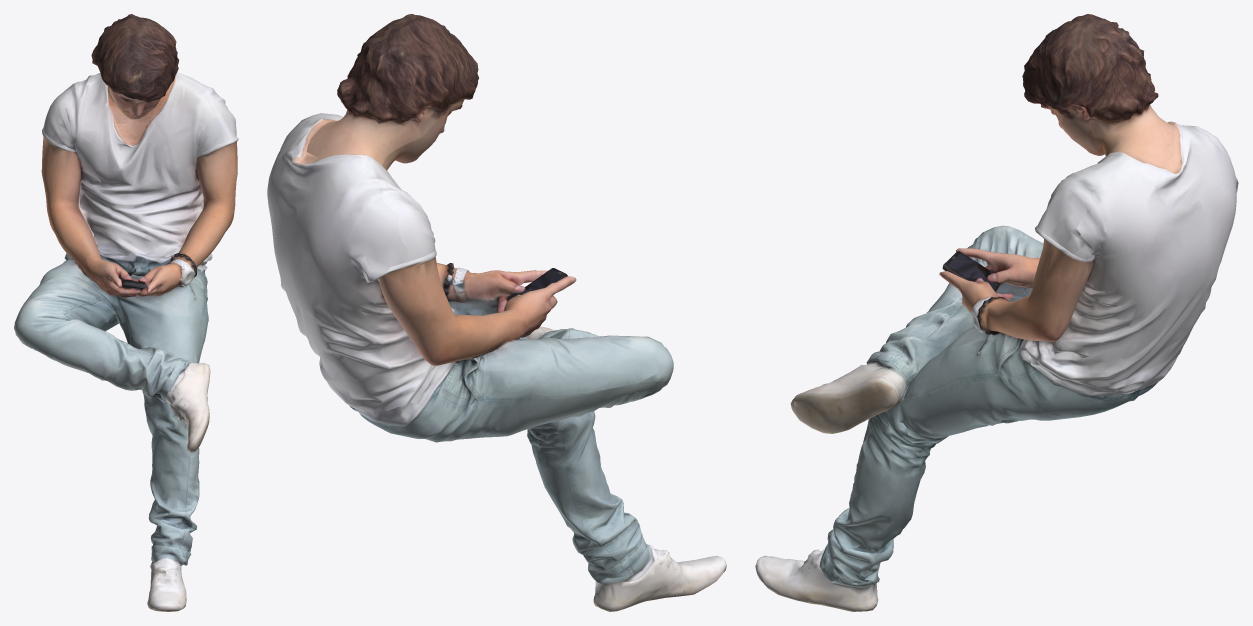
File: 3DMAN.dae
The picture shows the model from 3 angles, left to right: view 1: azimuth 30°, elevation 25°; view 2: azimuth 150°, elevation 25°; view 3: azimuth 270°, elevation 25°; orthographic projection. The views are drawn at different scales.
Visible parts, largest first — view 1: _3DGeom_1_Defintion (×10); view 2: _3DGeom_1_Defintion (×9); view 3: _3DGeom_1_Defintion (×9).
Part boxes in pixels (x1,y1,x2,y2): _3DGeom_1_Defintion (×10): (14, 14, 238, 611); _3DGeom_1_Defintion (×9): (267, 14, 726, 611); _3DGeom_1_Defintion (×9): (755, 14, 1238, 611).
Bounding box in the file's own units: 28.15 × 36.7 × 52.36.
